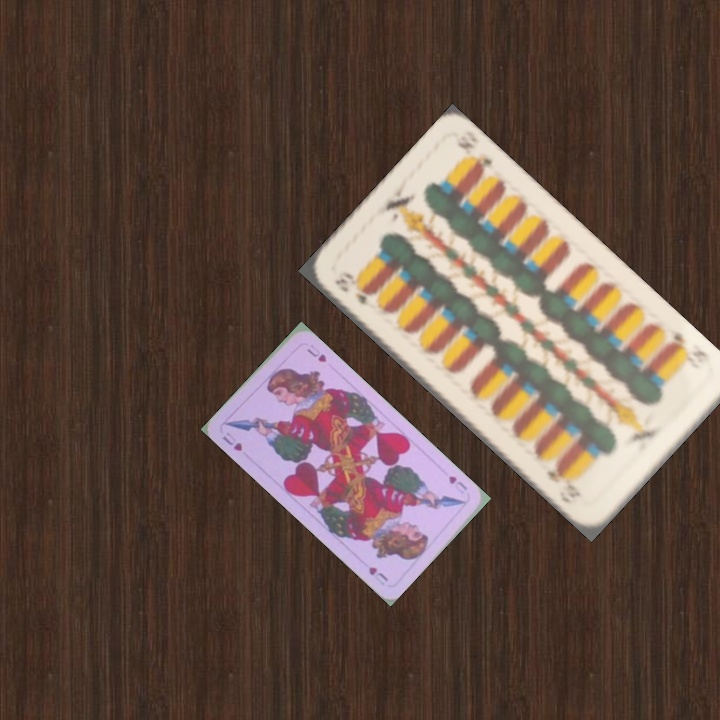E10: (661, 327, 714, 370), (330, 267, 376, 312)
HU: (218, 428, 245, 454), (444, 471, 470, 497)
